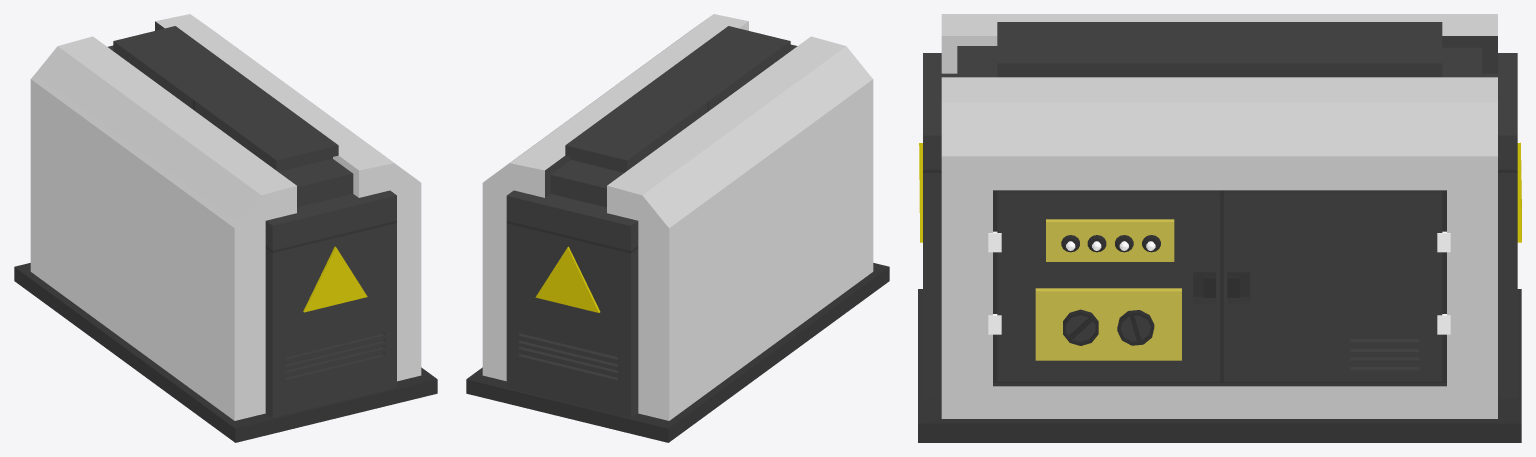
Rendered from generator.glb.
3 renders of one model, left to right at view 1: azimuth 30°, elevation 25°; view 2: azimuth 150°, elevation 25°; view 3: azimuth 270°, elevation 25°, orthographic. The views are drawn at different scales.
Parts seen in each view (by area): view 1: group2; view 2: group2; view 3: group2.
Part boxes in pixels (left/top/right/bottom): group2: left=14, top=14, right=437, bottom=442; group2: left=466, top=14, right=889, bottom=442; group2: left=918, top=14, right=1521, bottom=442.
Bounding box in the file's own units: 0.0471 × 0.053 × 0.0872.
Materials: 1 (1 with a texture image).
